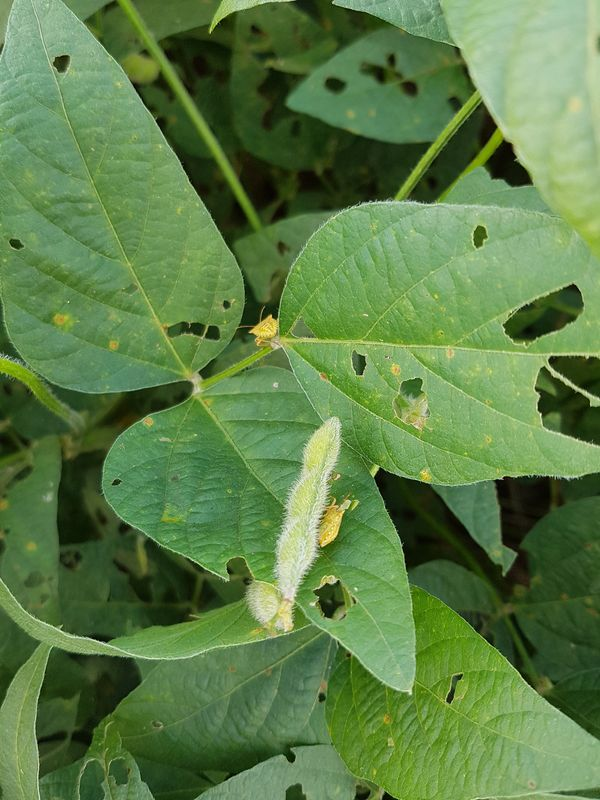Euschistus_heros_ninfa: (306, 491, 357, 557), (234, 304, 292, 361)
